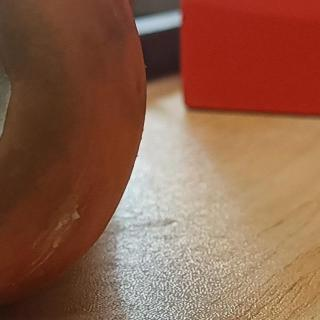carrot: (0, 0, 152, 320)
